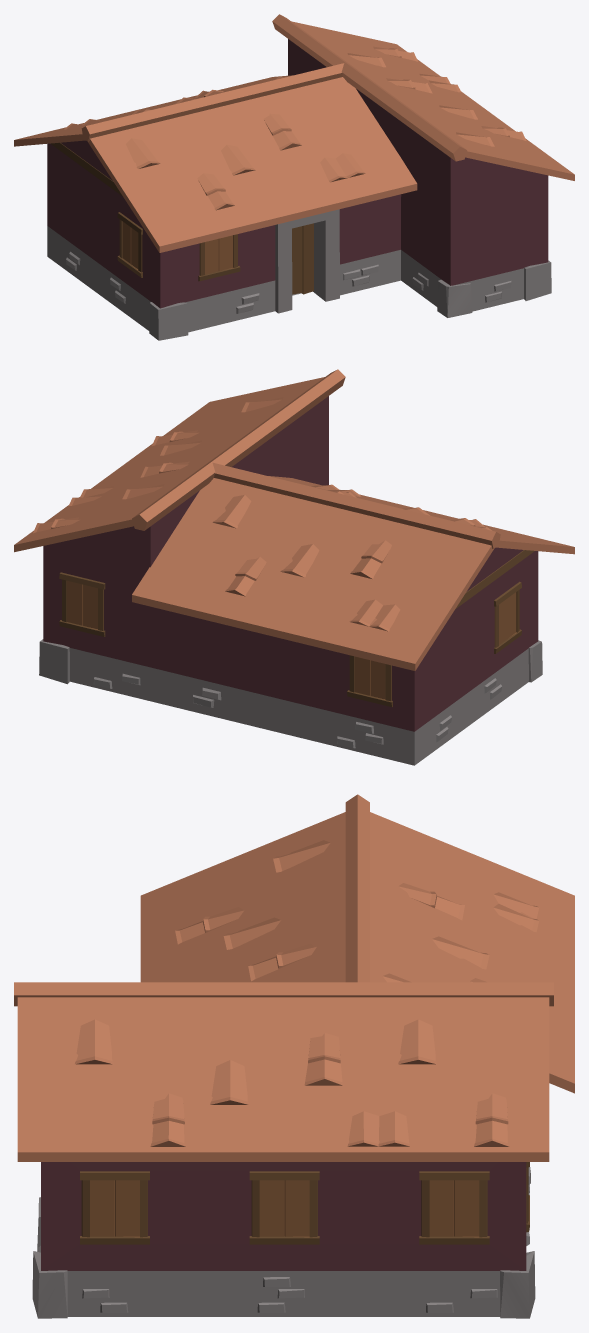
The model's file is SM_House_Basic_Small_Empire.fbx.
3 renders of one model, top to bottom at view 1: azimuth 30°, elevation 25°; view 2: azimuth 150°, elevation 25°; view 3: azimuth 270°, elevation 25°, orthographic. The views are drawn at different scales.
Visible parts, largest first — view 1: SM_House_Basic_Small_Empire; view 2: SM_House_Basic_Small_Empire; view 3: SM_House_Basic_Small_Empire.
Boxes of the visible parts, x1=… form: SM_House_Basic_Small_Empire: x1=14, y1=14, x2=574, y2=340; SM_House_Basic_Small_Empire: x1=14, y1=369, x2=574, y2=765; SM_House_Basic_Small_Empire: x1=14, y1=794, x2=574, y2=1318.
Bounding box in the file's own units: 10.18 × 4.58 × 8.83.
